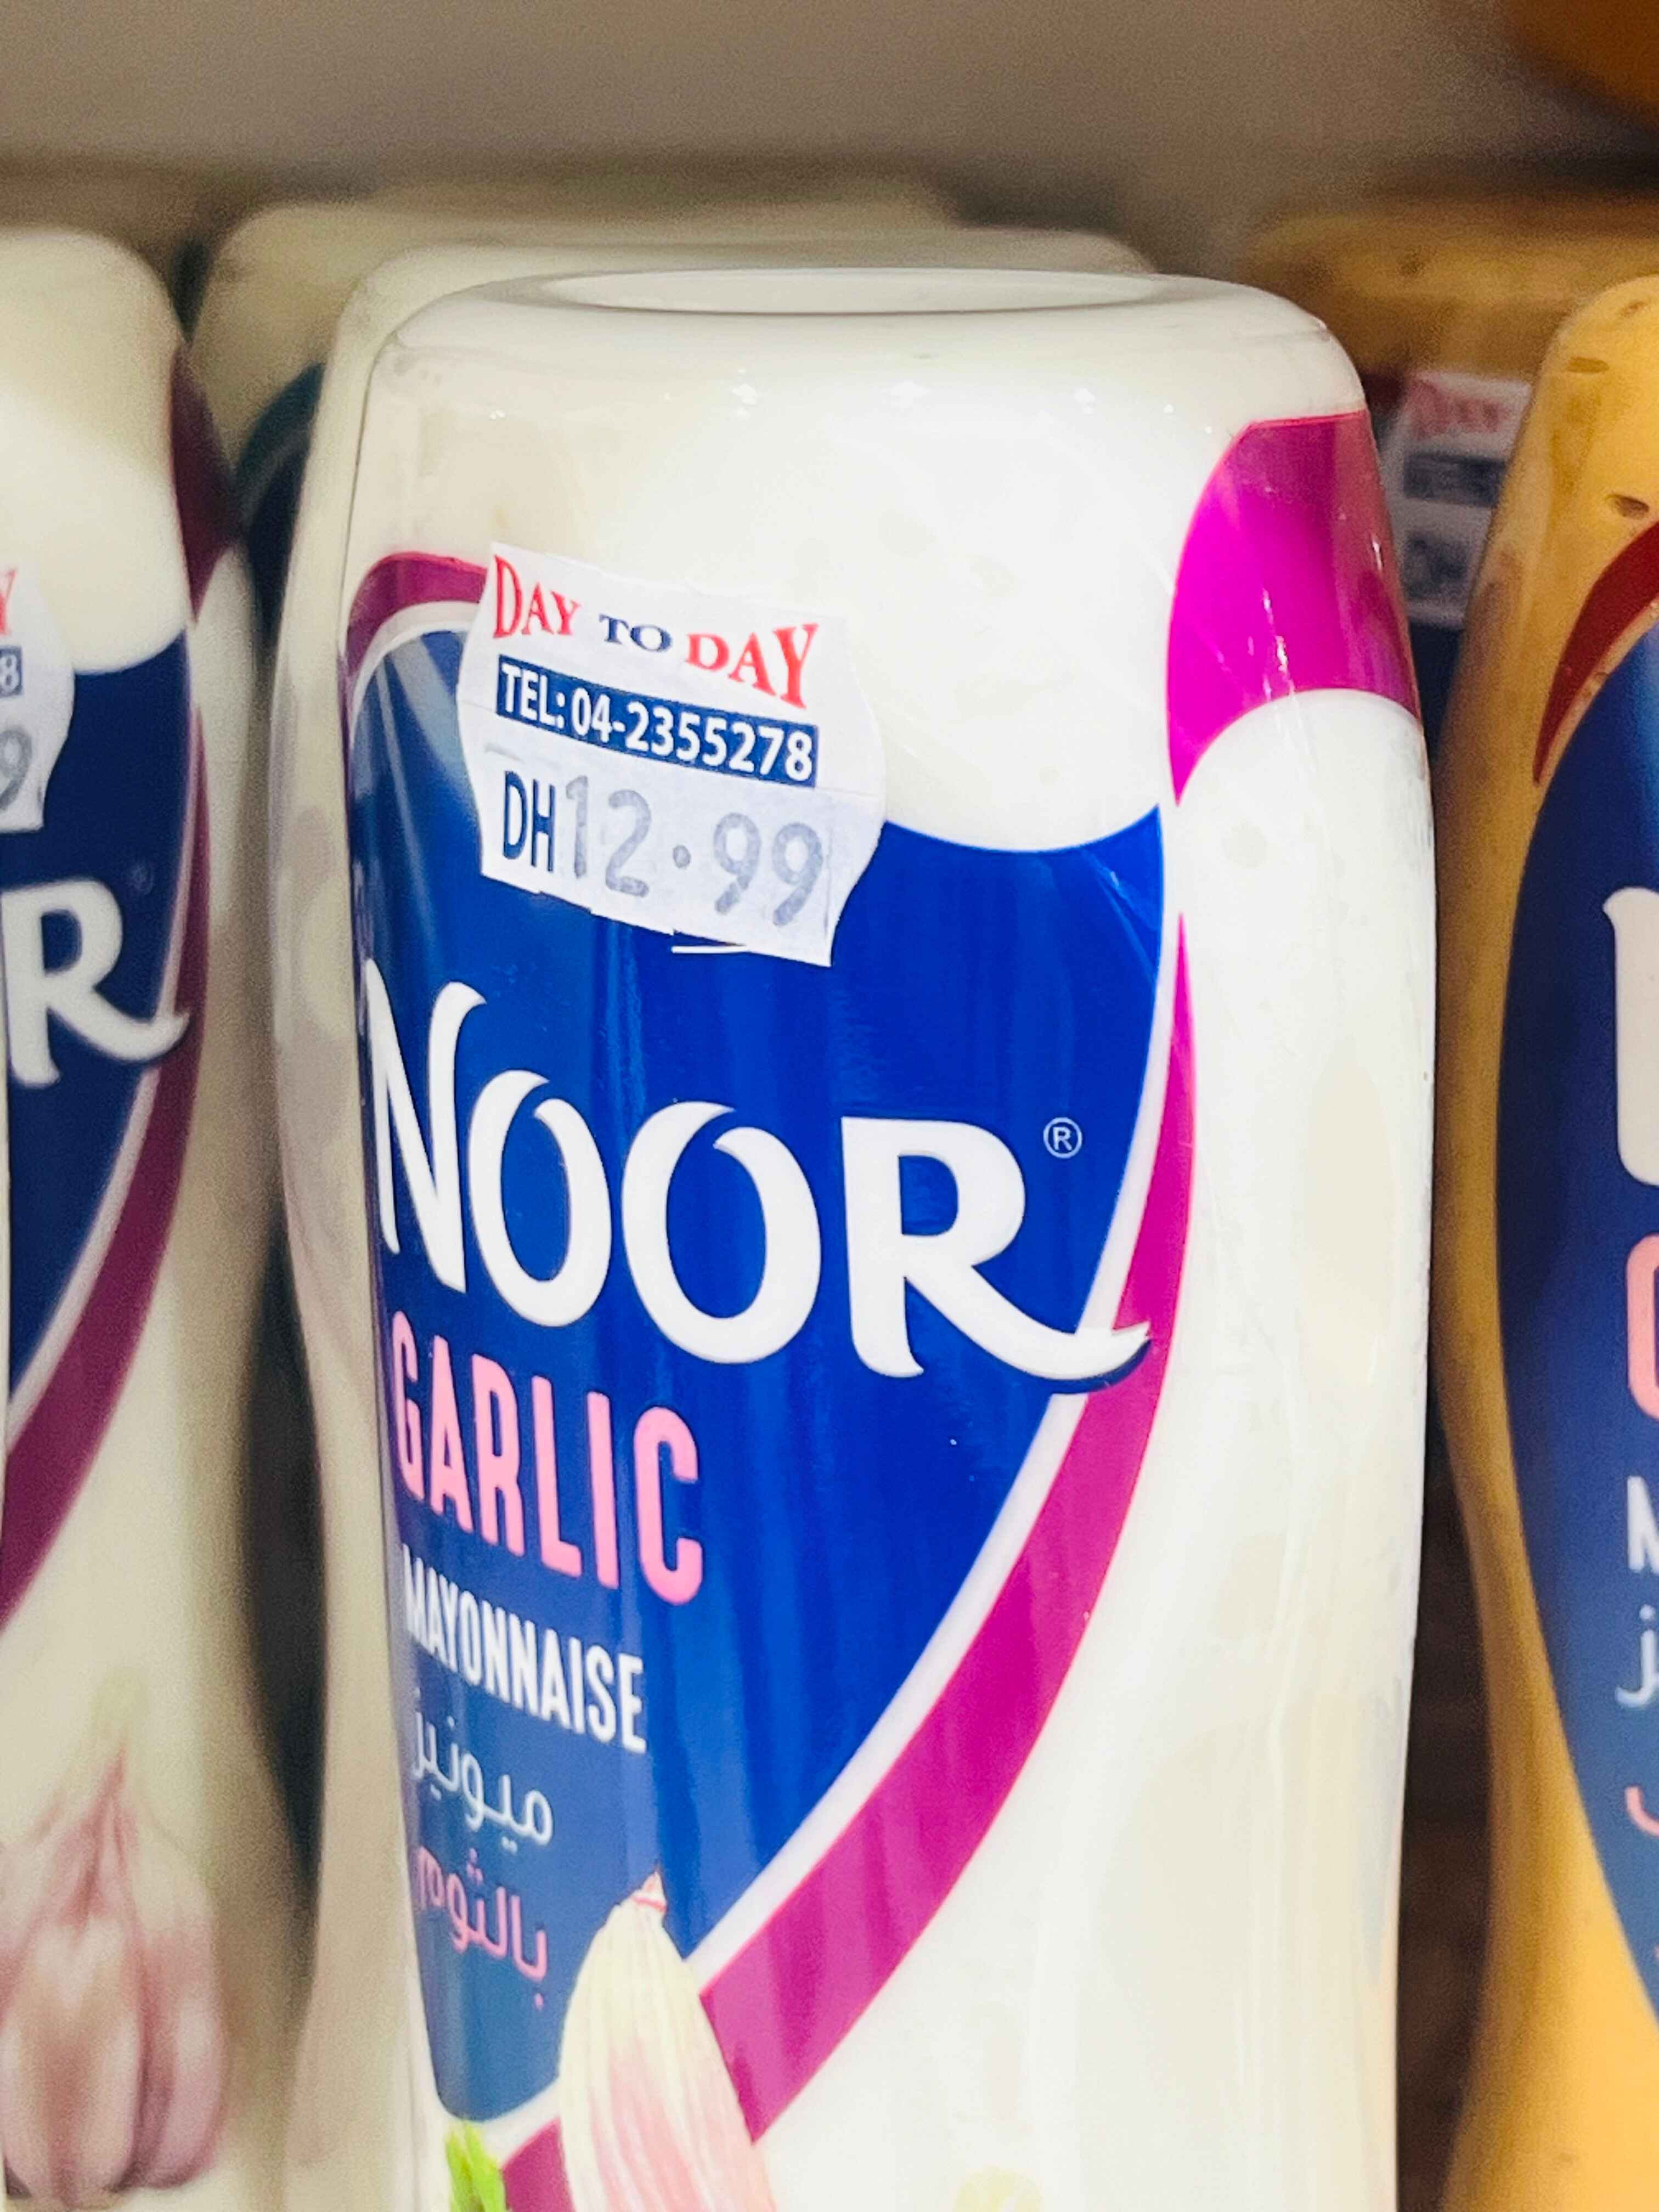PriceTagSmall: (448, 540, 885, 968), (1356, 366, 1554, 613), (0, 557, 84, 829)
